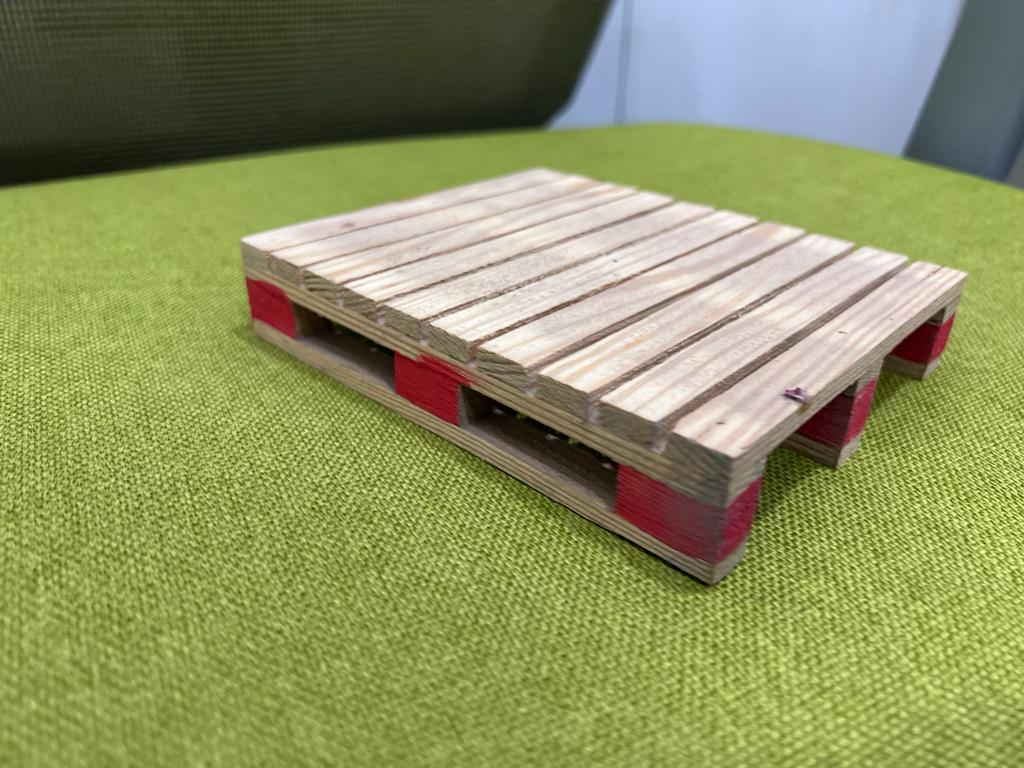pallet: (187, 167, 976, 580)
